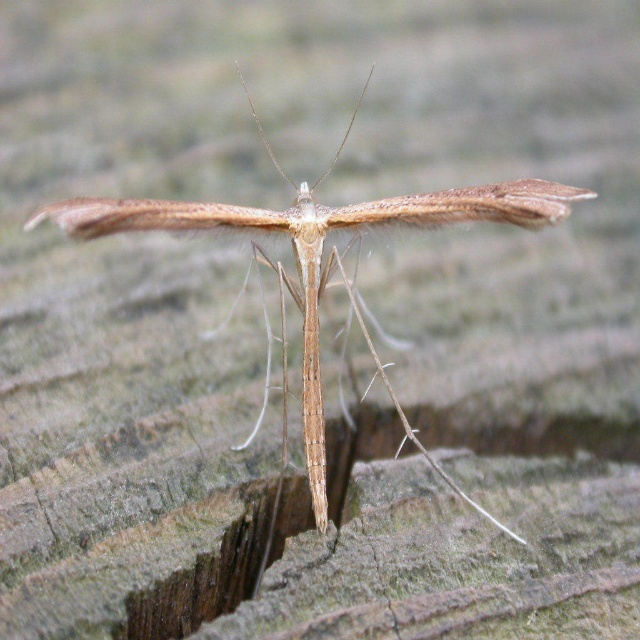Moths and butterflies: (19, 60, 598, 530)
